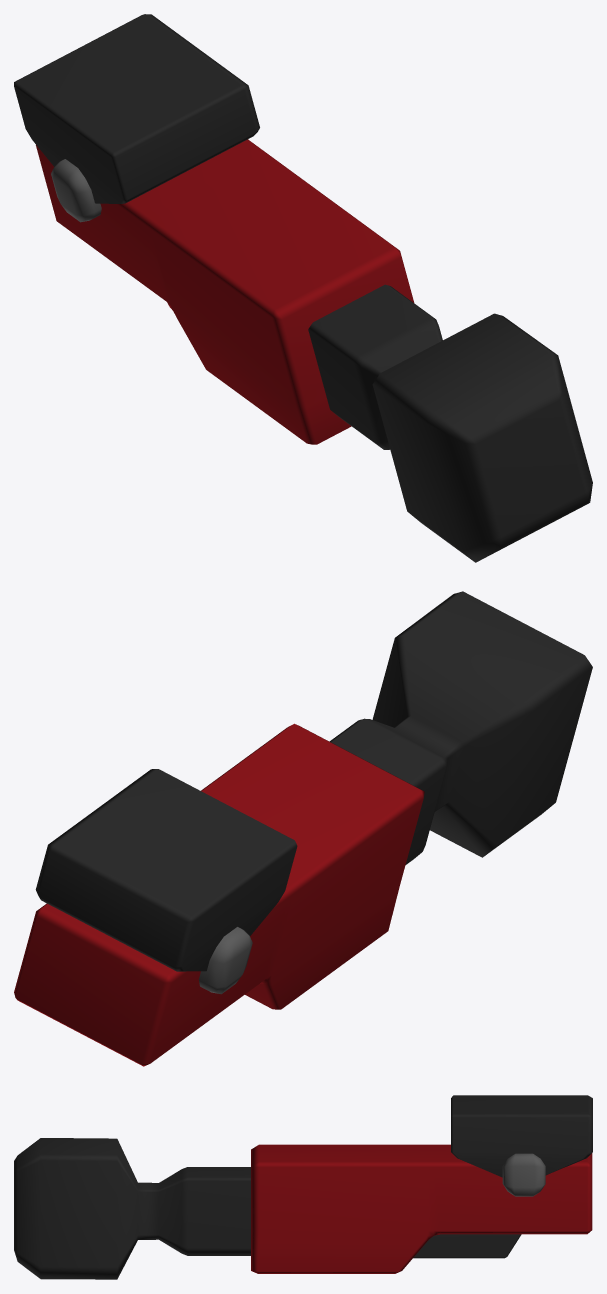
File: Ship_Boss_02_Weapon_R_01.fbx
3 renders of one model, top to bottom at view 1: azimuth 30°, elevation 25°; view 2: azimuth 150°, elevation 25°; view 3: azimuth 270°, elevation 25°, orthographic. The views are drawn at different scales.
Parts seen in each view (by area): view 1: Ship_Boss_02_Weapon_R_01; view 2: Ship_Boss_02_Weapon_R_01; view 3: Ship_Boss_02_Weapon_R_01.
Part boxes in pixels (bbox=[...]): Ship_Boss_02_Weapon_R_01: bbox=[14, 14, 592, 562]; Ship_Boss_02_Weapon_R_01: bbox=[14, 591, 592, 1066]; Ship_Boss_02_Weapon_R_01: bbox=[14, 1095, 592, 1279].
Size of the model in its own units: 109 by 139 by 427.
